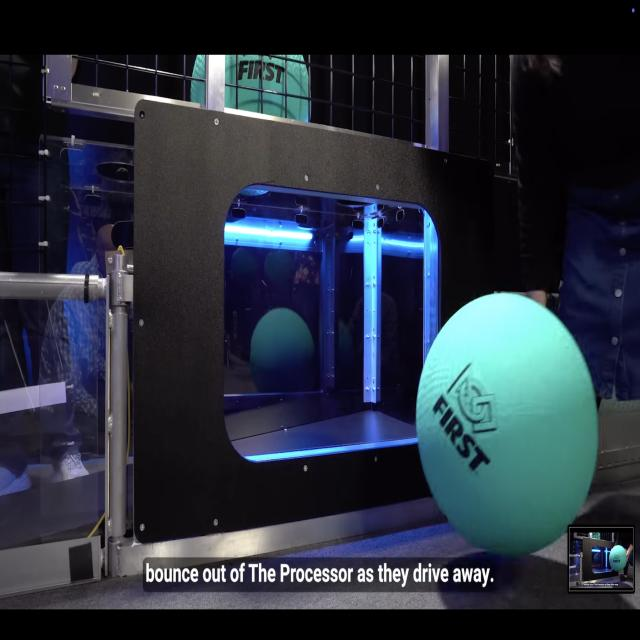algae: (413, 287, 598, 557), (191, 50, 321, 129)
